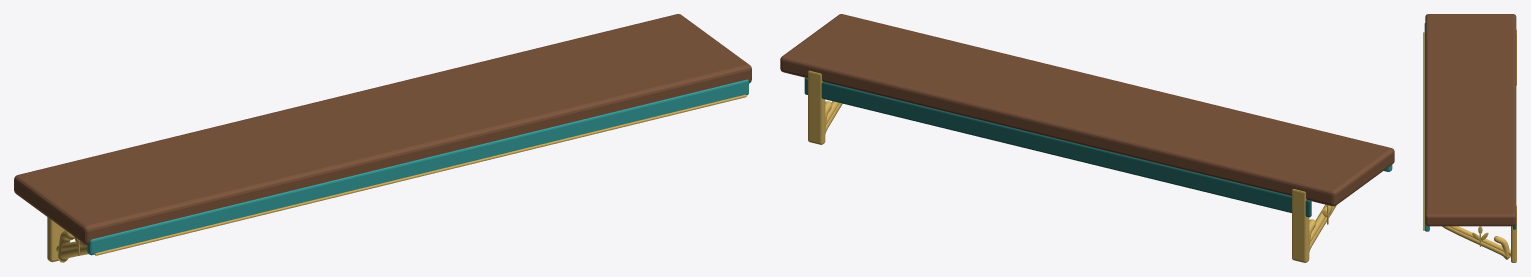
The model's file is stock_shelf_botanical.glb.
3 renders of one model, left to right at view 1: azimuth 30°, elevation 25°; view 2: azimuth 150°, elevation 25°; view 3: azimuth 270°, elevation 25°, orthographic. The views are drawn at different scales.
Parts seen in each view (by area): view 1: Clear_walnut_plate, Molded_front_fascia, Thin_brass_fascia_bead, Wall_bracket_anchor, Curved_support_scroll; view 2: Clear_walnut_plate, Rear_wall_rail, Wall_bracket_anchor, Wall_bracket_anchor.001; view 3: Clear_walnut_plate, Curved_support_scroll.001, Molded_front_fascia, Thin_brass_fascia_bead, Bracket_diagonal.001, Wall_bracket_anchor.001.
Boxes of the visible parts, bbox=[...] form: Clear_walnut_plate: bbox=[14, 14, 751, 244]; Molded_front_fascia: bbox=[87, 79, 748, 255]; Thin_brass_fascia_bead: bbox=[94, 94, 746, 255]; Wall_bracket_anchor: bbox=[47, 217, 64, 262]; Curved_support_scroll: bbox=[57, 230, 88, 262]; Clear_walnut_plate: bbox=[780, 14, 1394, 206]; Rear_wall_rail: bbox=[804, 77, 1311, 217]; Wall_bracket_anchor: bbox=[1292, 189, 1309, 262]; Wall_bracket_anchor.001: bbox=[808, 70, 825, 144]; Clear_walnut_plate: bbox=[1425, 14, 1516, 226]; Curved_support_scroll.001: bbox=[1442, 226, 1510, 259]; Molded_front_fascia: bbox=[1424, 23, 1429, 231]; Thin_brass_fascia_bead: bbox=[1423, 32, 1424, 230]; Bracket_diagonal.001: bbox=[1449, 226, 1510, 255]; Wall_bracket_anchor.001: bbox=[1511, 205, 1516, 262].
Bounding box in the file's own units: 2 × 0.27 × 0.392.
